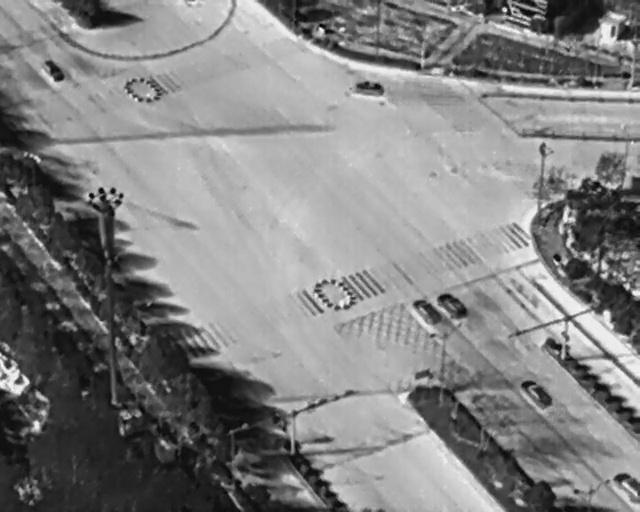Car: (517, 372, 555, 414), (435, 287, 469, 323), (409, 293, 442, 329), (613, 471, 639, 503), (40, 57, 66, 85), (346, 81, 385, 96)
